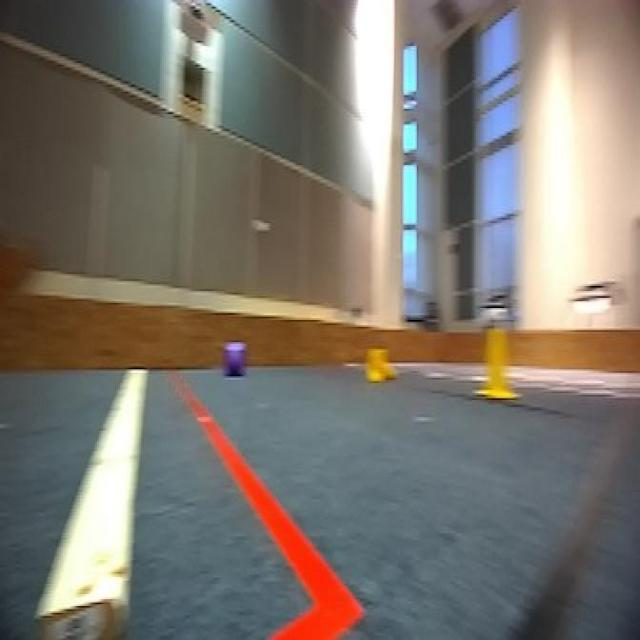frc_cone: (470, 318, 521, 400), (361, 344, 402, 386)
frc_cube: (222, 339, 248, 378)
